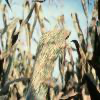Corn Gray leaf spot: (20, 27, 74, 99)
